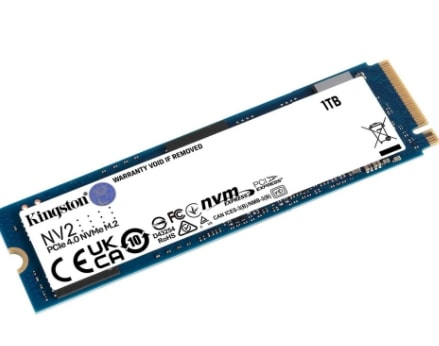ssd2280: (1, 54, 436, 316)
